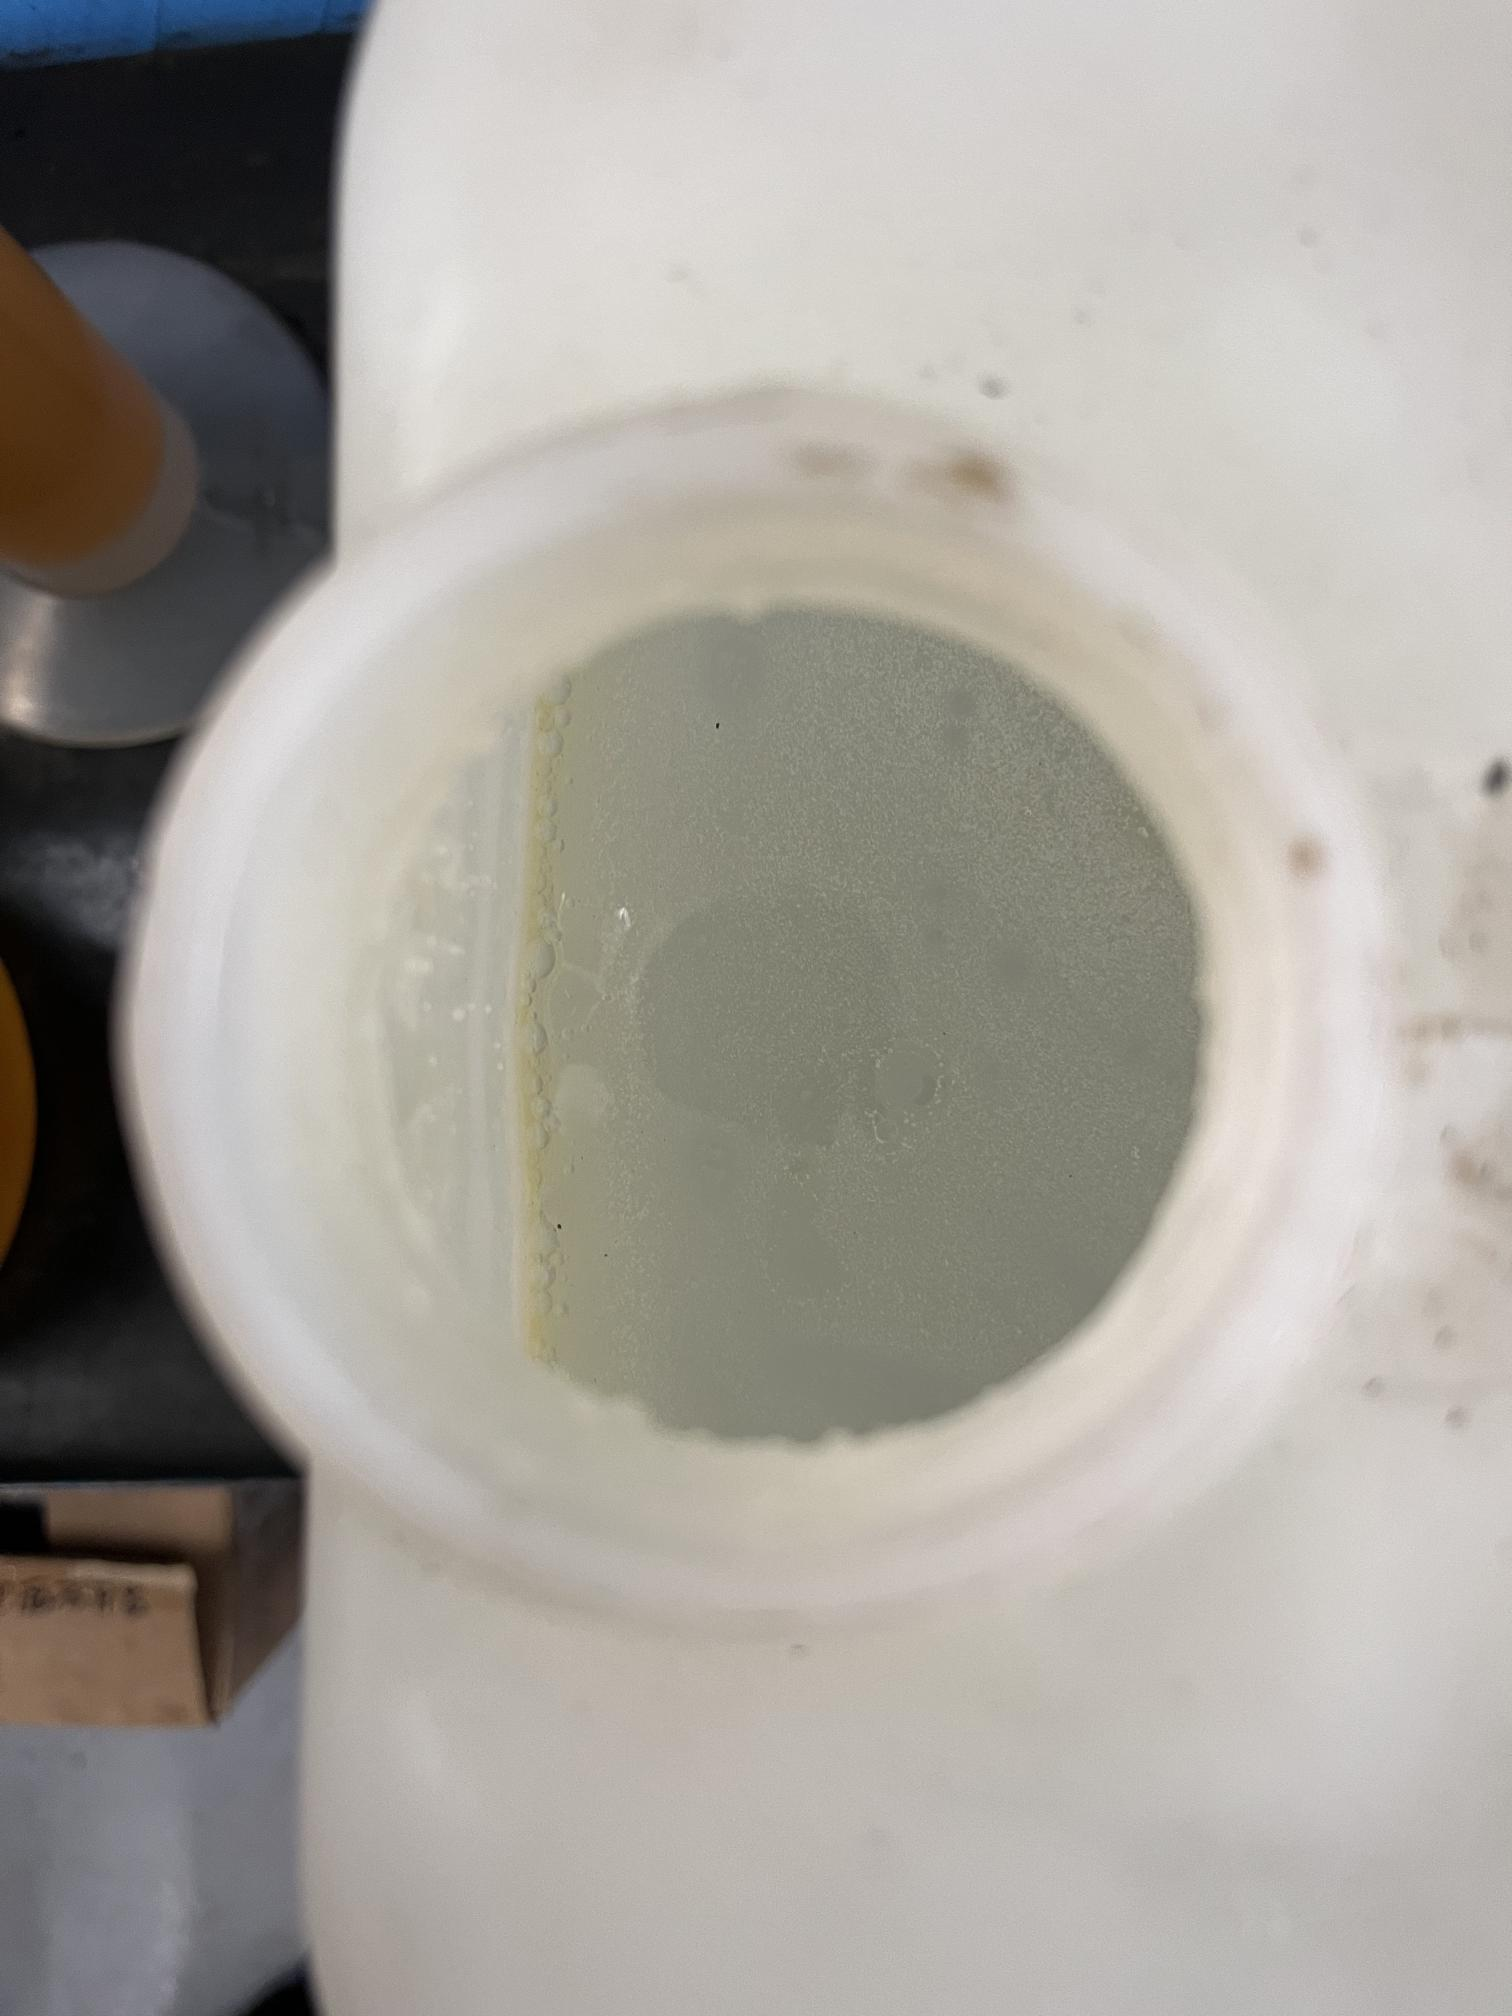Presenca de Oleo - - 140ml: (191, 444, 1340, 1640)
